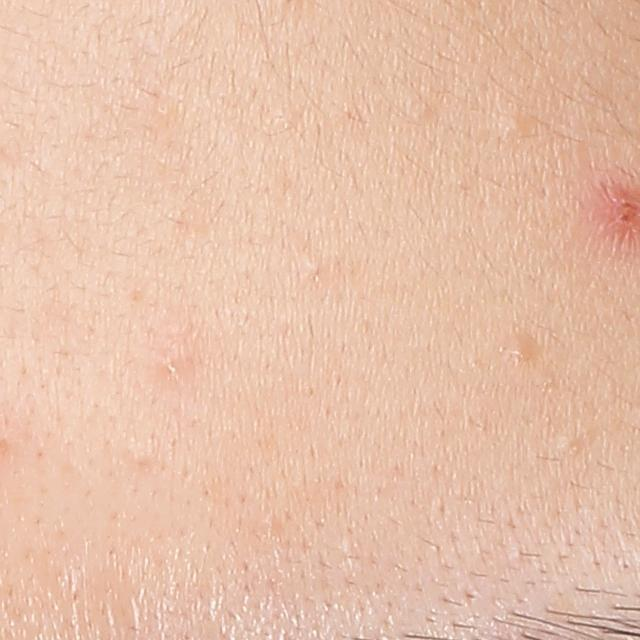comedo: (500, 334, 539, 366), (553, 430, 586, 458), (500, 114, 528, 143), (300, 261, 326, 280), (160, 357, 180, 381)
